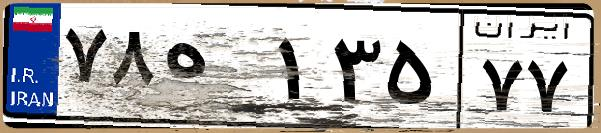1: (270, 28, 330, 110)
3: (330, 28, 385, 110)
5: (385, 28, 445, 110)
7: (57, 26, 110, 100), (475, 38, 525, 113), (525, 38, 570, 115)
8: (110, 28, 158, 98)
ه: (158, 20, 270, 120)
